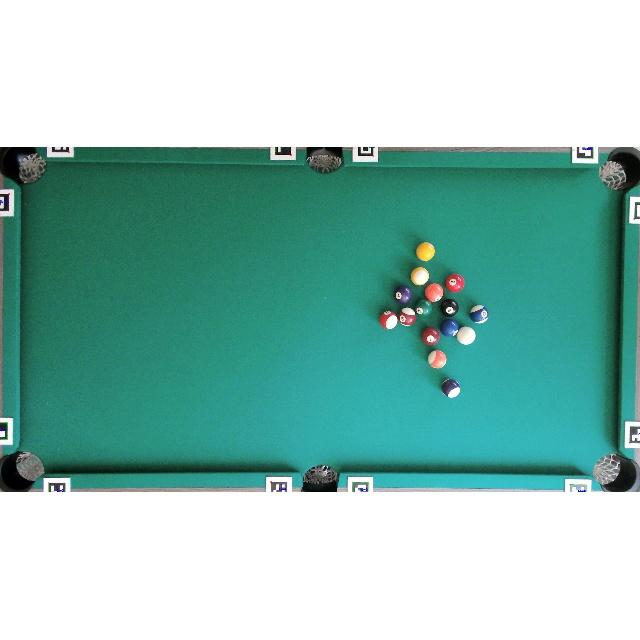cue ball: (456, 326, 476, 345)
other: (415, 241, 436, 262), (469, 304, 489, 325), (445, 273, 465, 293), (410, 266, 430, 286), (441, 378, 461, 398), (425, 282, 444, 302), (440, 298, 459, 318), (394, 285, 413, 304), (428, 349, 447, 368), (398, 307, 416, 326), (421, 327, 440, 345), (440, 319, 459, 337), (380, 311, 398, 329), (414, 300, 432, 318)
